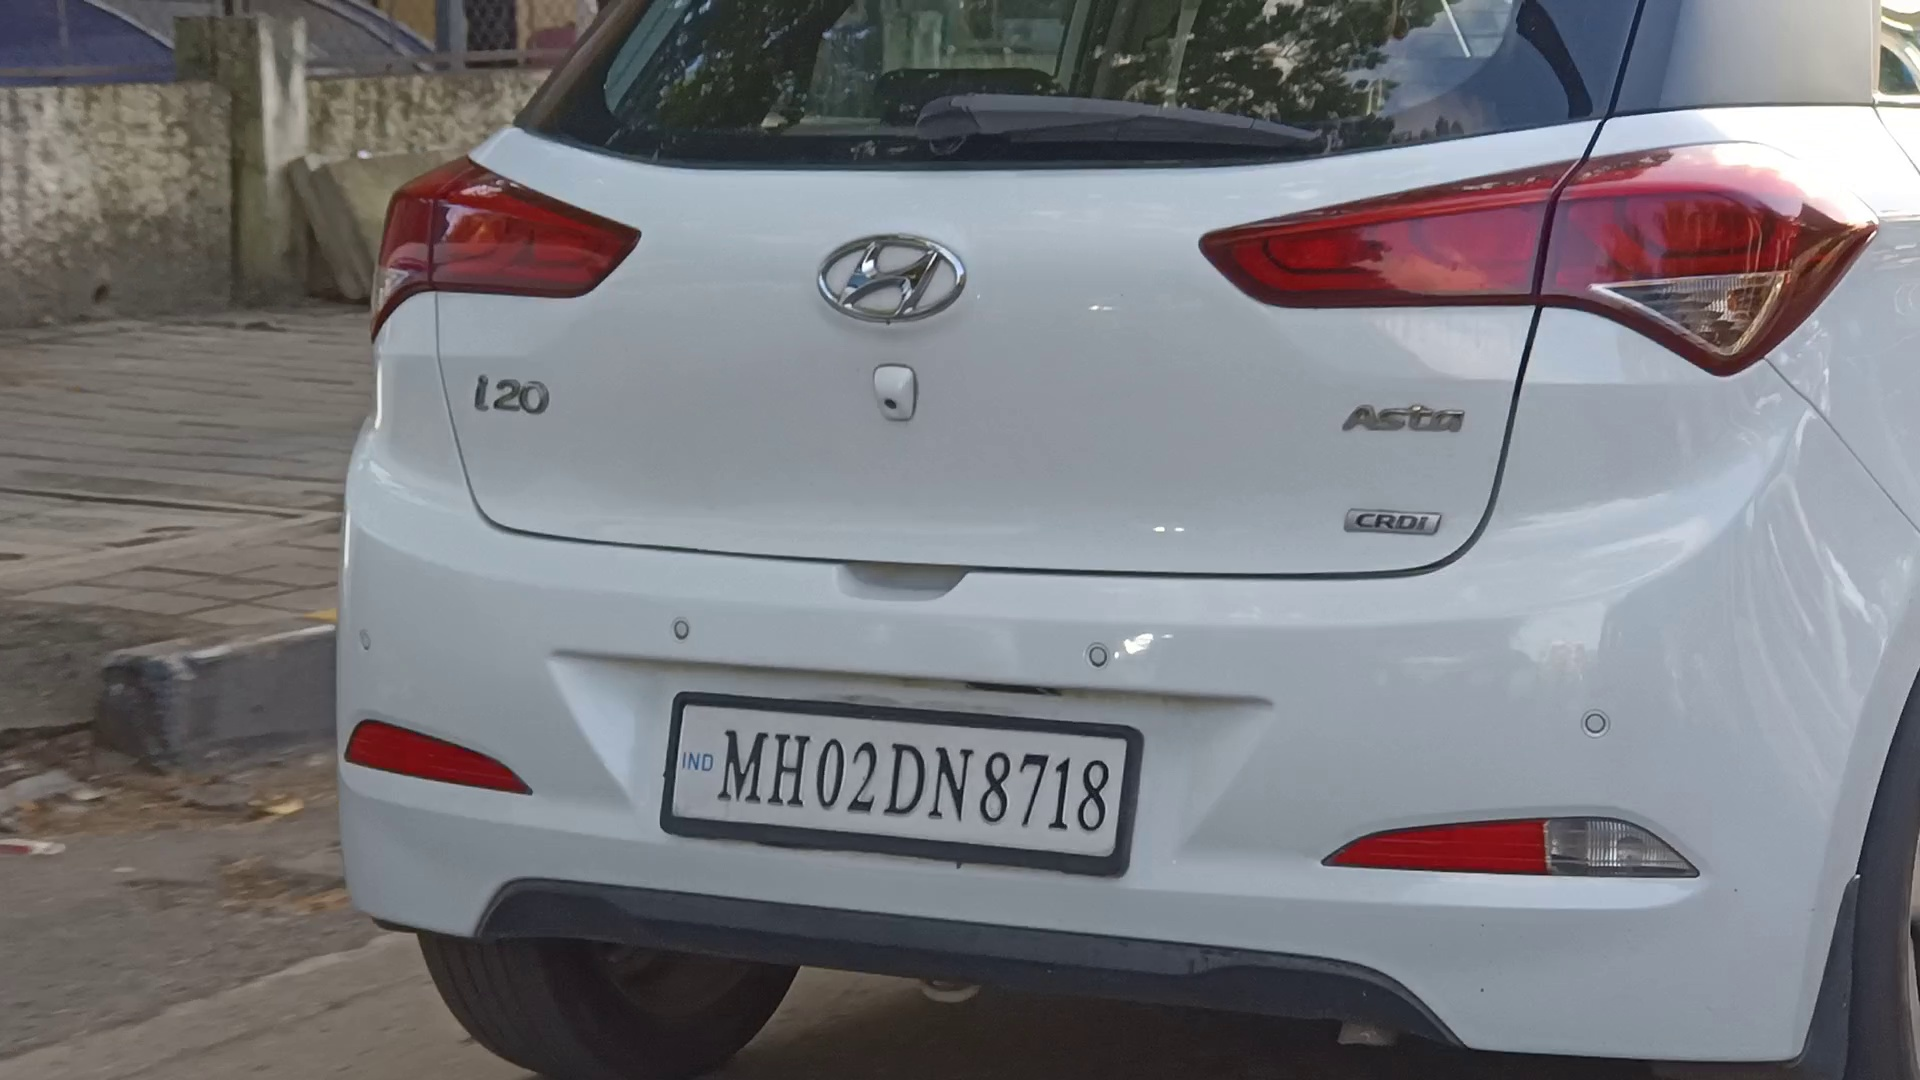MH02DN8718: (669, 700, 1127, 856)
